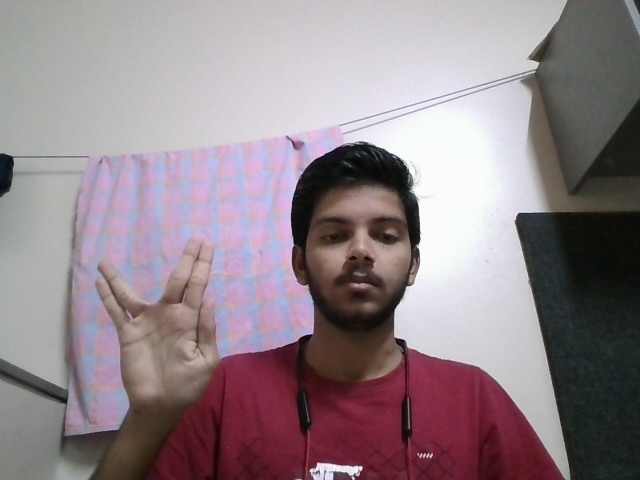Live Long: (86, 229, 235, 411)
